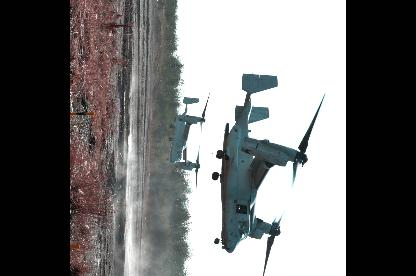Tornado: (212, 71, 327, 275), (168, 92, 210, 188)
